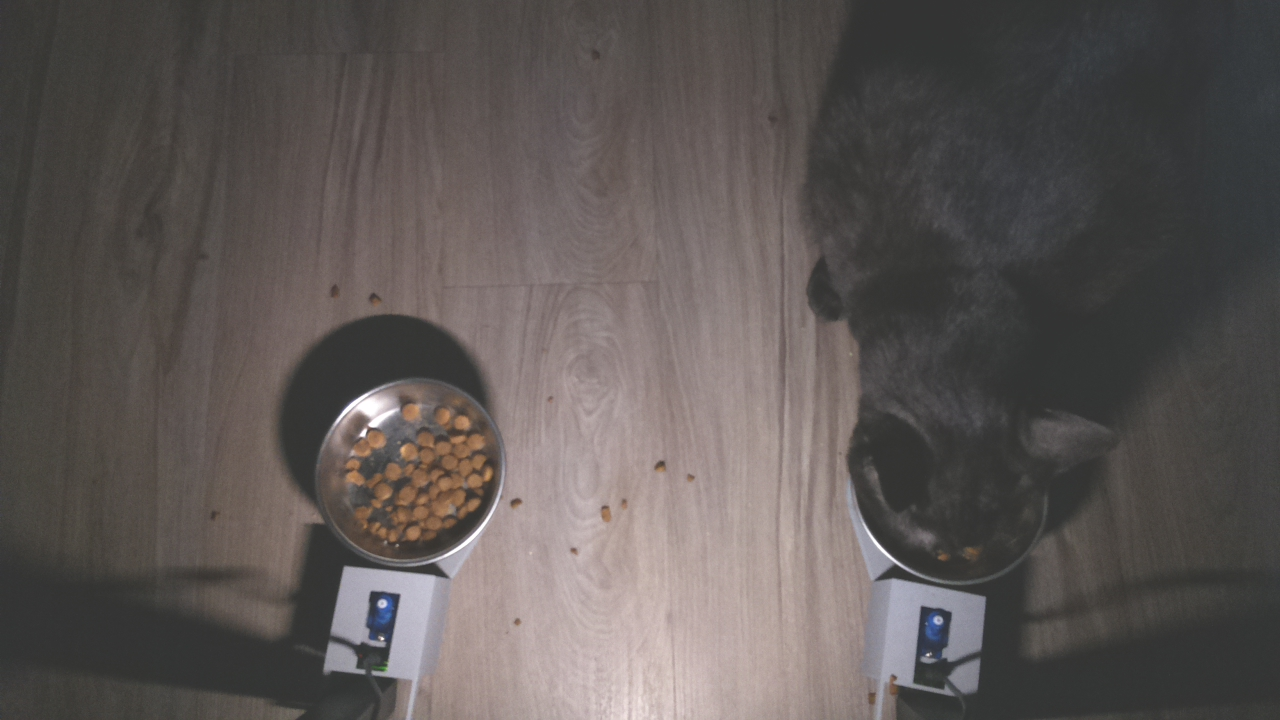open_bowl: (307, 369, 515, 572)
saki_eating: (828, 351, 1143, 594)
